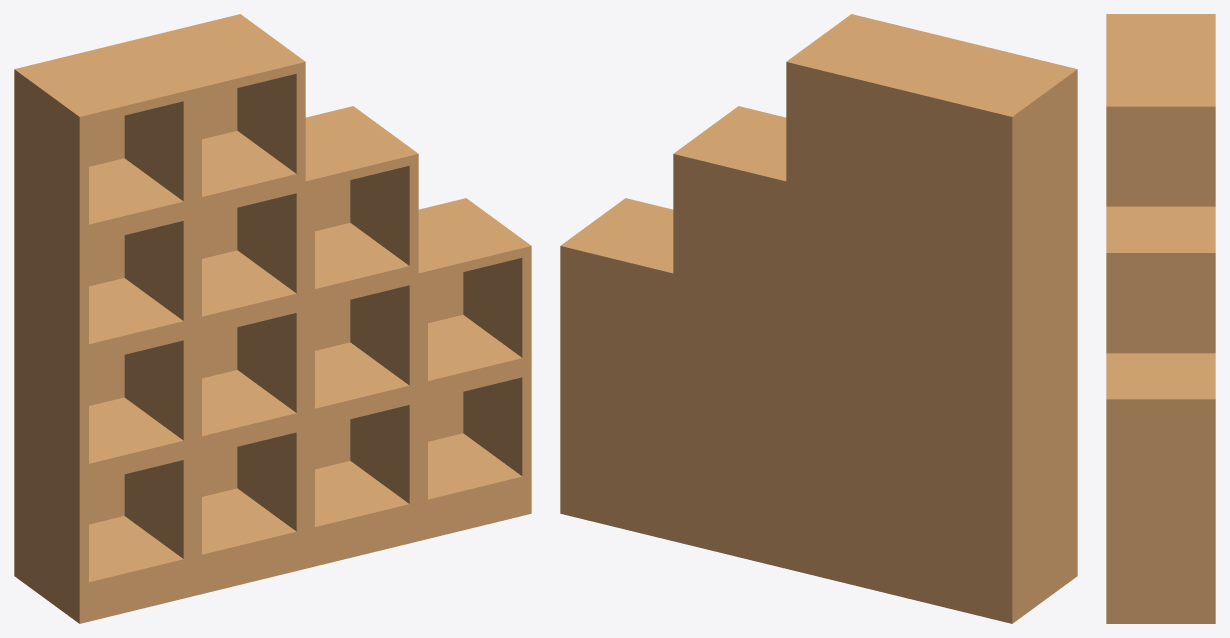
Rendered from bookshelf.fbx.
The picture shows the model from 3 angles, left to right: view 1: azimuth 30°, elevation 25°; view 2: azimuth 150°, elevation 25°; view 3: azimuth 270°, elevation 25°; orthographic projection. The views are drawn at different scales.
Visible parts, largest first — view 1: Cube.003; view 2: Cube.003; view 3: Cube.003.
Boxes of the visible parts, box(x1,y1,x2,y2) form: Cube.003: box(14, 14, 531, 623); Cube.003: box(560, 14, 1077, 623); Cube.003: box(1106, 14, 1215, 623).
Bounding box in the file's own units: 456 × 489 × 114.
